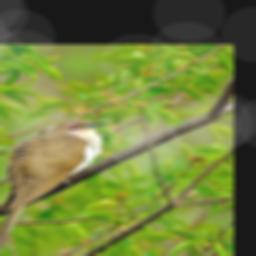Cuckoo: (0, 119, 108, 256)
